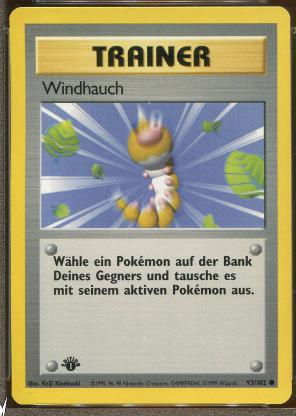Card: (7, 5, 293, 406)
